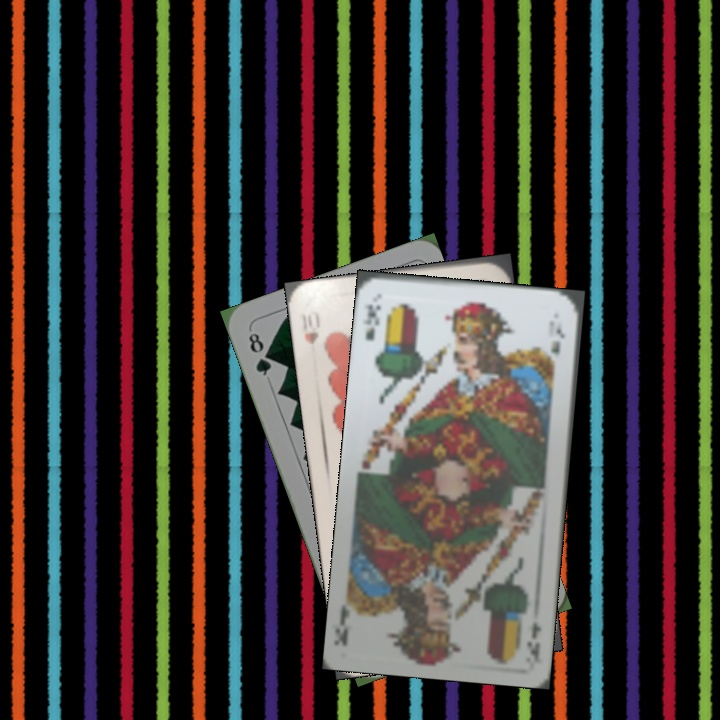EK: (360, 300, 383, 343), (523, 617, 544, 662)
G8: (244, 328, 274, 379)
H10: (299, 309, 321, 347)
